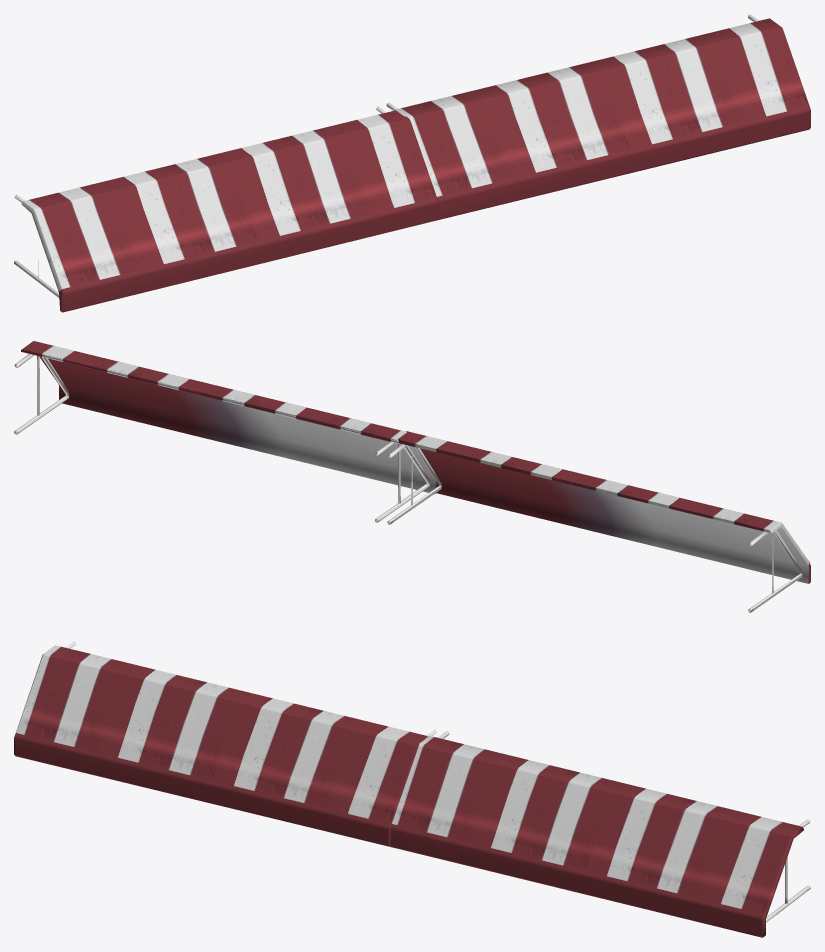
File: CommercialTent_10 (17).fbx
3 renders of one model, top to bottom at view 1: azimuth 30°, elevation 25°; view 2: azimuth 150°, elevation 25°; view 3: azimuth 330°, elevation 25°, orthographic.
Visible parts, largest first — view 1: _000_static_CommercialTent_10__18_, _000_static_CommercialTent_10__17_, CommercialTent_10__17_, _000_static_CommercialTent_10__17__1; view 2: _000_static_CommercialTent_10__18_, _000_static_CommercialTent_10__17_, CommercialTent_10__17_, _000_static_CommercialTent_10__17__1; view 3: _000_static_CommercialTent_10__18_, _000_static_CommercialTent_10__17_, CommercialTent_10__17_, _000_static_CommercialTent_10__17__1.
Part boxes in pixels (box(x1,y1,x2,y2)): _000_static_CommercialTent_10__18_: box(14, 106, 438, 312); _000_static_CommercialTent_10__17_: box(387, 18, 810, 219); CommercialTent_10__17_: box(386, 14, 810, 211); _000_static_CommercialTent_10__17__1: box(448, 109, 809, 216); _000_static_CommercialTent_10__18_: box(387, 431, 810, 612); _000_static_CommercialTent_10__17_: box(14, 341, 436, 522); CommercialTent_10__17_: box(14, 341, 436, 522); _000_static_CommercialTent_10__17__1: box(16, 350, 396, 455); _000_static_CommercialTent_10__18_: box(14, 641, 436, 846); _000_static_CommercialTent_10__17_: box(390, 735, 810, 936); CommercialTent_10__17_: box(419, 731, 810, 937); _000_static_CommercialTent_10__17__1: box(401, 848, 761, 935).
Size of the model in its own units: 1089 by 114 by 139.
